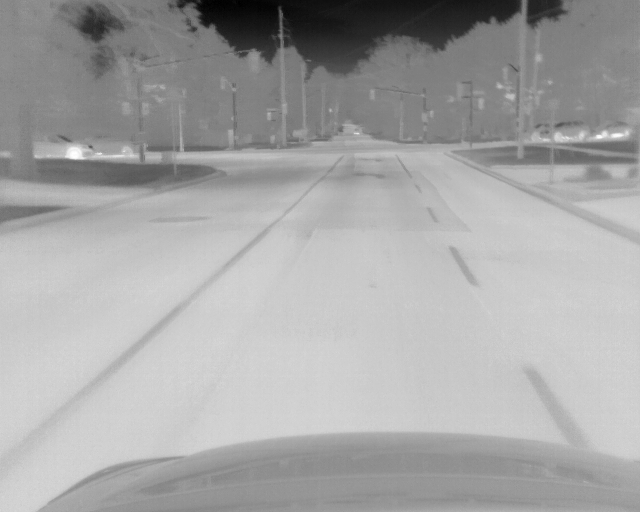car: (31, 134, 95, 160), (91, 135, 140, 156), (553, 119, 589, 142), (589, 122, 630, 140), (524, 120, 551, 143)
